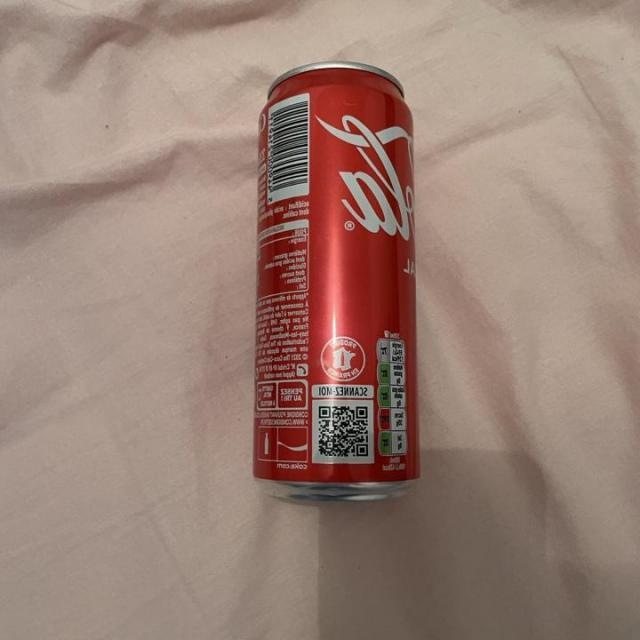can: (244, 52, 428, 522)
